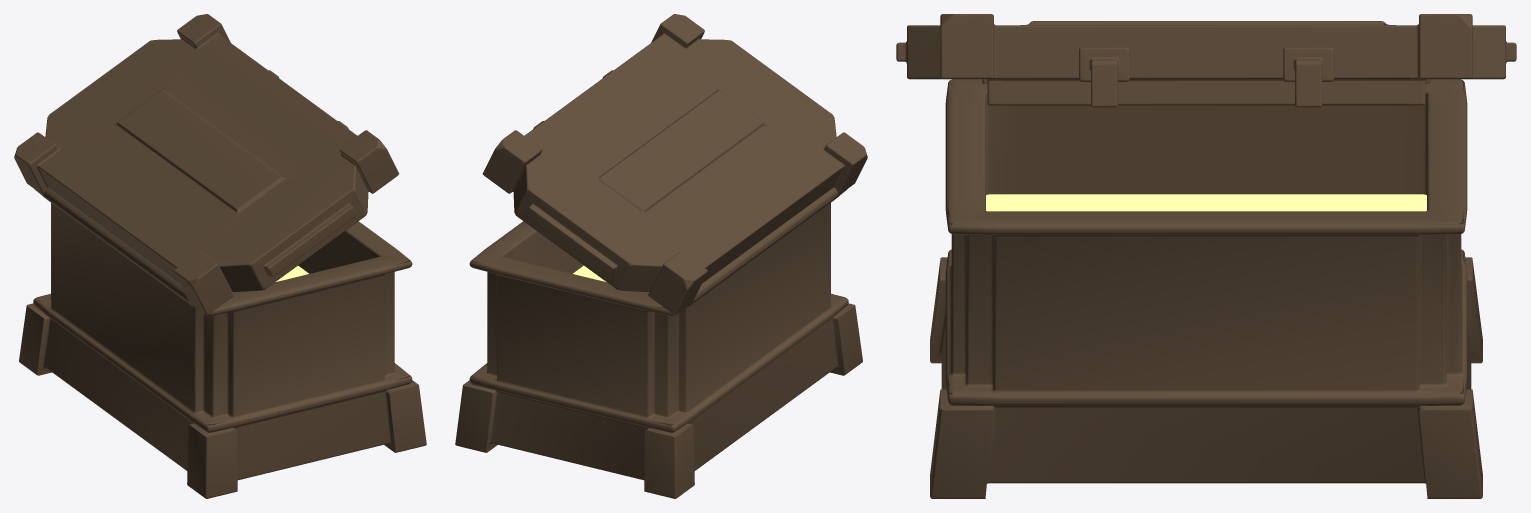
File: lowpoly_chest_of_gold.glb
3 renders of one model, left to right at view 1: azimuth 30°, elevation 25°; view 2: azimuth 150°, elevation 25°; view 3: azimuth 270°, elevation 25°, orthographic. The views are drawn at different scales.
Parts seen in each view (by area): view 1: cratebase, lid; view 2: cratebase, lid; view 3: cratebase, lid, gold.
Boxes of the visible parts, left/top/right/bottom form: cratebase: left=19, top=189, right=426, bottom=498; lid: left=14, top=14, right=399, bottom=314; cratebase: left=455, top=189, right=862, bottom=498; lid: left=482, top=14, right=867, bottom=314; cratebase: left=930, top=79, right=1482, bottom=498; lid: left=896, top=14, right=1516, bottom=107; gold: left=986, top=194, right=1426, bottom=211.
Size of what is drawn, in the model's own units: 2.33 by 2.97 by 3.65.
